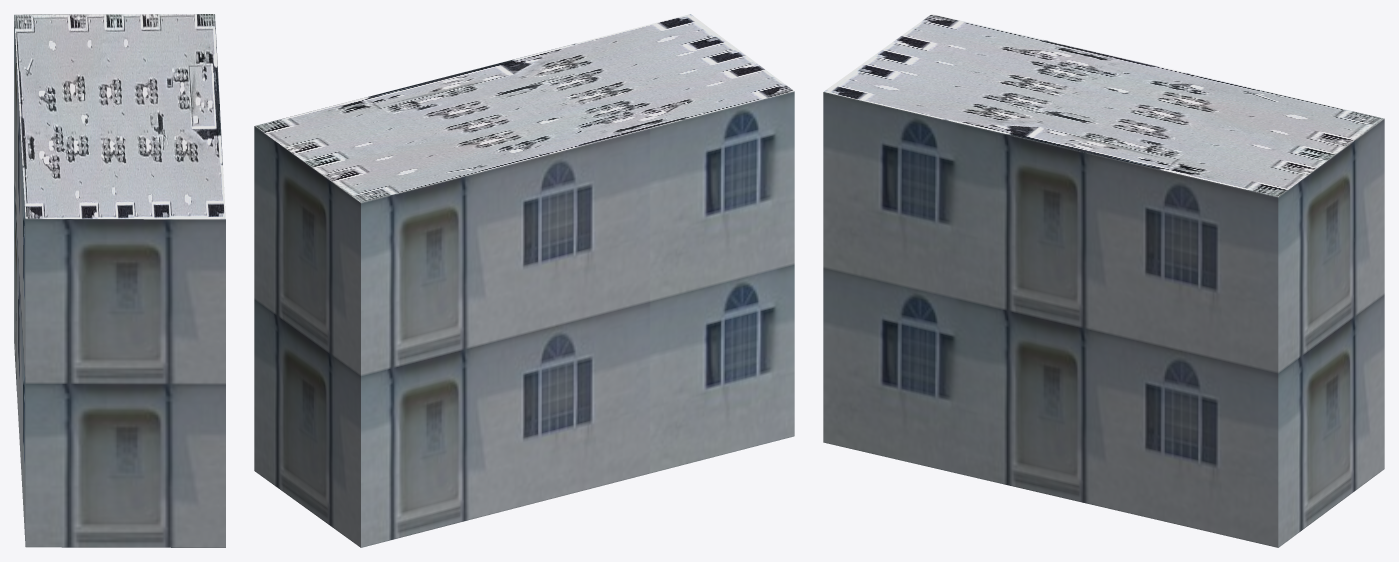
Rendered from ResTex__1144.fbx.
3 views of the same model, side by side, from view 1: azimuth 30°, elevation 25°; view 2: azimuth 150°, elevation 25°; view 3: azimuth 270°, elevation 25° (orthographic). The views are drawn at different scales.
Visible parts, largest first — view 1: CityEngineMaterial_17_m, CityEngineMaterial_m; view 2: CityEngineMaterial_17_m, CityEngineMaterial_m; view 3: CityEngineMaterial_17_m, CityEngineMaterial_m.
Boxes of the visible parts, x1,y1,x2,y2 form: CityEngineMaterial_17_m: (14,15,225,547); CityEngineMaterial_m: (14,14,225,219); CityEngineMaterial_17_m: (254,91,794,547); CityEngineMaterial_m: (255,14,793,202); CityEngineMaterial_17_m: (823,92,1384,547); CityEngineMaterial_m: (824,14,1383,197).
Size of the model in its own units: 6.73 by 6 by 8.7.
2 materials, 2 textured.
